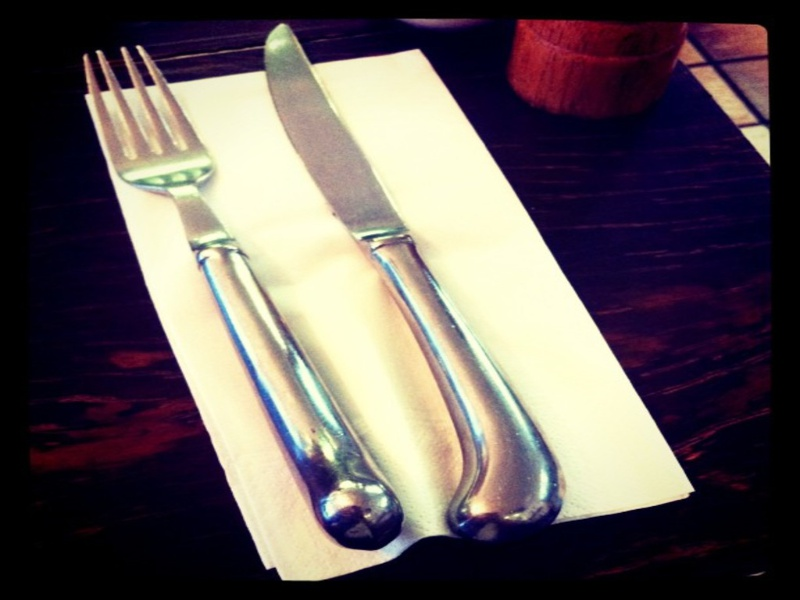knife: (260, 18, 573, 545)
